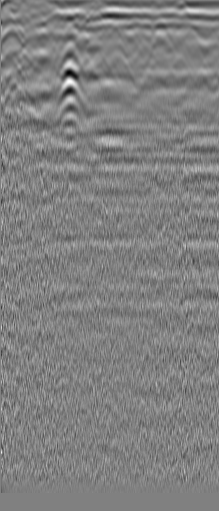오수: (1, 24, 21, 44)
우수: (145, 16, 172, 47)
